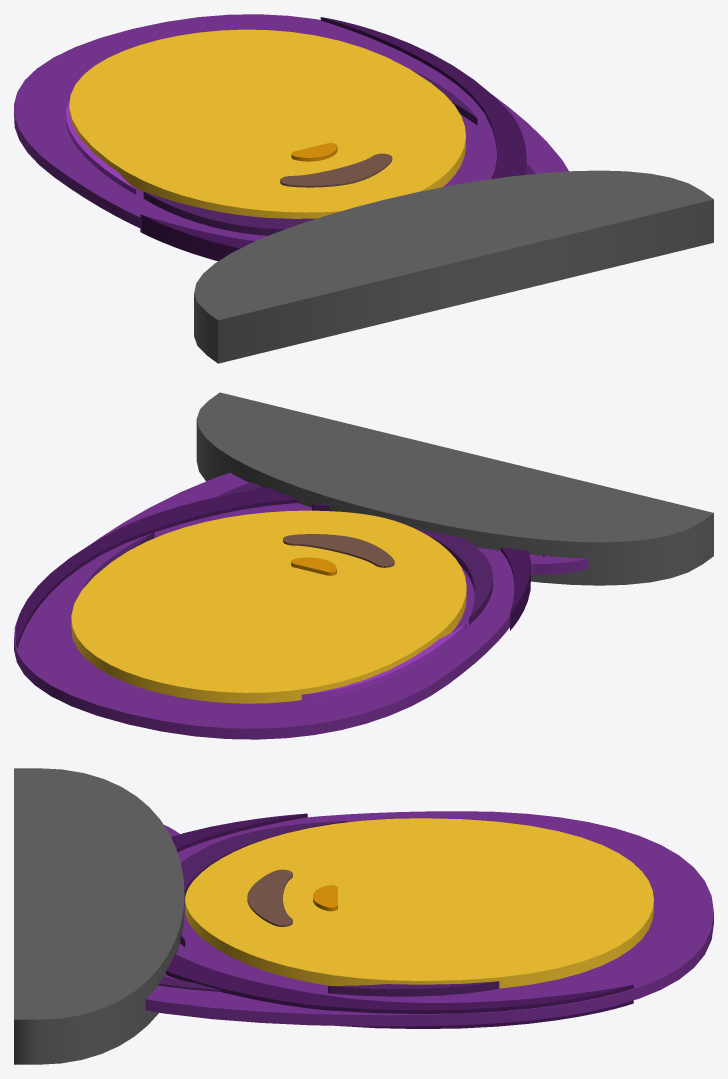
File: emoji_u1f9d5.glb
3 renders of one model, top to bottom at view 1: azimuth 30°, elevation 25°; view 2: azimuth 150°, elevation 25°; view 3: azimuth 270°, elevation 25°, orthographic. The views are drawn at different scales.
Visible parts, largest first — view 1: emoji_u1f9d5; view 2: emoji_u1f9d5; view 3: emoji_u1f9d5.
Boxes of the visible parts, left/top/right/bottom form: emoji_u1f9d5: left=14, top=14, right=713, bottom=363; emoji_u1f9d5: left=14, top=392, right=713, bottom=739; emoji_u1f9d5: left=14, top=768, right=713, bottom=1064.
Size of the model in its own units: 0.0287 by 0.0024 by 0.0338.
